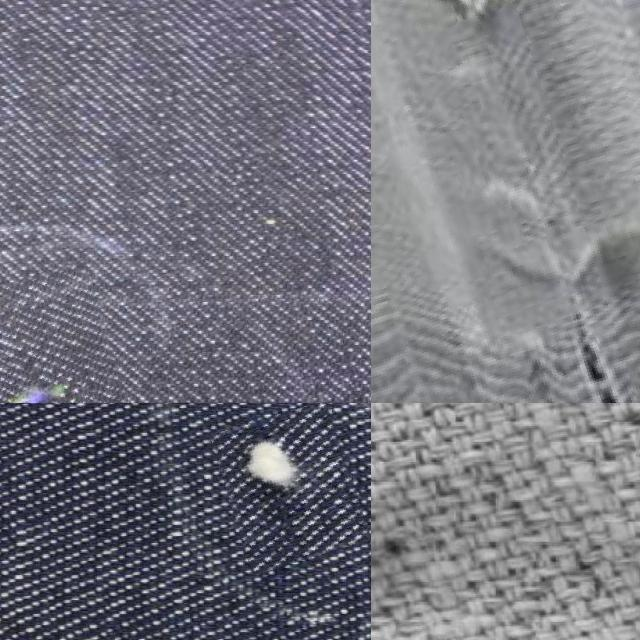Thread_other: (371, 0, 640, 403), (218, 406, 360, 568), (0, 270, 139, 403)
